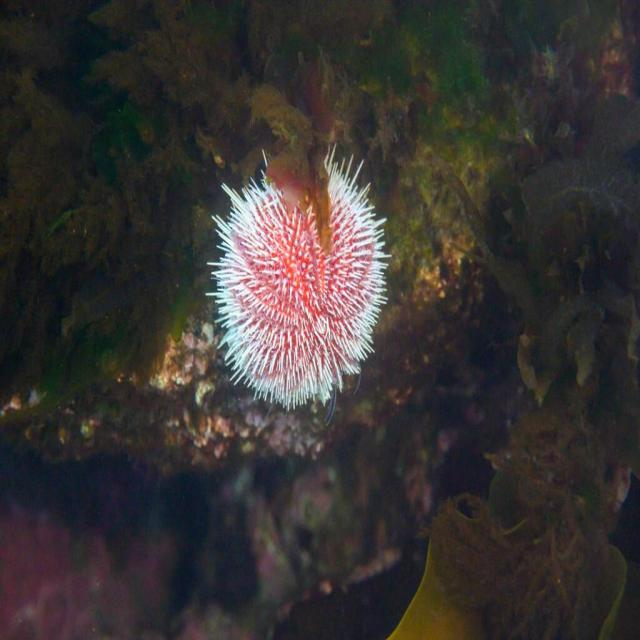Deniz Kestanesi: (205, 140, 391, 426)
